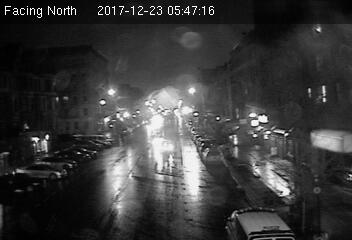car: (202, 147, 225, 166)
police: (225, 205, 293, 240)
